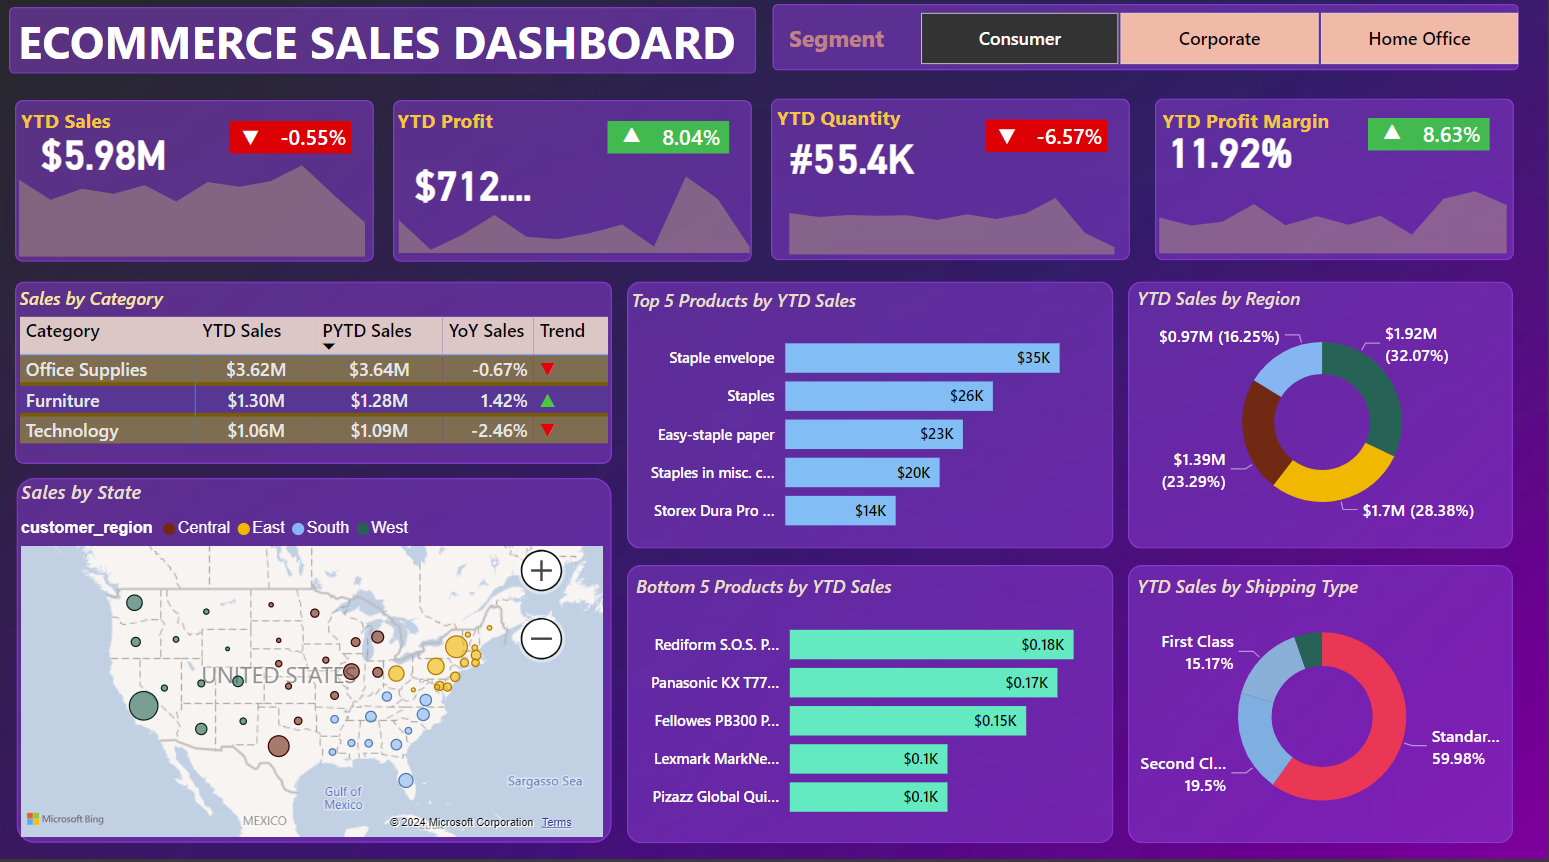

Layout of this report page (visuals, bound fields, positions):
{"tool":"powerbi","page":{"name":"Page 1","canvas":[1280,720],"ordinal":0},"visuals":[{"type":"shape","box":[15.1,17,614.2,54.8],"z":0},{"type":"textbox","box":[17,15.1,612.3,62.4],"z":1000},{"type":"shape","box":[20,93.8,295,133],"z":2000},{"type":"card","fields":{"Values":["ecommerce_data.YTD Sales"]},"box":[18.1,112.7,147.4,47.2],"z":3000},{"type":"shape","box":[195.8,110.8,100.2,26.5],"z":4000},{"type":"areaChart","fields":{"Category":["Calendar.Month"],"Y":["Sum(ecommerce_data.sales_per_order)"]},"box":[7.6,125.7,315,101.5],"z":5000},{"type":"card","fields":{"Values":["ecommerce_data.YoY Sales"]},"box":[214.7,110.8,100.2,30.2],"z":6000},{"type":"card","fields":{"Values":["ecommerce_data.Sales icon"]},"box":[195.8,110.8,34,24.6],"z":7000},{"type":"textbox","box":[20,93.8,128.5,43.5],"z":8000},{"type":"shape","box":[330.8,94.2,295,133],"z":9000},{"type":"card","fields":{"Values":["ecommerce_data.YTD Profit"]},"box":[321.2,138,147.4,47.2],"z":10000},{"type":"shape","box":[506.6,111.2,100.2,26.5],"z":11000},{"type":"areaChart","fields":{"Category":["Calendar.Month"],"Y":["Sum(ecommerce_data.profit_per_order)"]},"box":[319.5,137.8,319.5,86.3],"z":12000},{"type":"card","fields":{"Values":["ecommerce_data.YoY Profit"]},"box":[525.5,111.2,100.2,30.2],"z":13000},{"type":"card","fields":{"Values":["ecommerce_data.Profit icon"]},"box":[509.2,108.8,34,24.6],"z":14000},{"type":"textbox","box":[329.6,93.7,98.3,35.9],"z":15000},{"type":"shape","box":[641.4,92.2,295,133],"z":16000},{"type":"card","fields":{"Values":["ecommerce_data.YTD Concatenated Qty"]},"box":[633.8,115.7,147.4,47.2],"z":17000},{"type":"shape","box":[817.1,109.2,100.2,26.5],"z":18000},{"type":"areaChart","fields":{"Category":["Calendar.Month"],"Y":["Sum(ecommerce_data.order_quantity)"]},"box":[640.5,139.8,296.8,86.3],"z":19000},{"type":"card","fields":{"Values":["ecommerce_data.YoY Qty"]},"box":[836,109.2,100.2,30.2],"z":20000},{"type":"card","fields":{"Values":["ecommerce_data.Quantity icon"]},"box":[817.7,110,34.8,24.2],"z":21000},{"type":"textbox","box":[640.5,91.4,195.3,37.9],"z":22000},{"type":"shape","box":[956.2,92.1,295,133],"z":23000},{"type":"card","fields":{"Values":["ecommerce_data.YTD Profit Margin"]},"box":[944.6,110.5,147.4,47.2],"z":24000},{"type":"shape","box":[1131.9,109.1,100.2,26.5],"z":25000},{"type":"areaChart","fields":{"Category":["Calendar.Month"],"Y":["ecommerce_data.Profit Margin"]},"box":[944.9,142.3,316.5,83.3],"z":26000},{"type":"card","fields":{"Values":["ecommerce_data.YoY Profit Margin"]},"box":[1150.8,109.1,100.2,30.2],"z":27000},{"type":"card","fields":{"Values":["ecommerce_data.Profit margin icon"]},"box":[1134.5,106.6,34,24.6],"z":28000},{"type":"shape","box":[19.7,242.3,490.6,149.9],"z":30000},{"type":"pivotTable","title":"Sales by Category ","fields":{"Rows":["ecommerce_data.category_name"],"Values":["ecommerce_data.YTD Sales","ecommerce_data.PYTD Sales","ecommerce_data.YoY Sales","ecommerce_data.Sales icon"]},"box":[18.2,246.8,499.7,145.4],"z":31000},{"type":"textbox","box":[651.1,24.2,110.5,39.4],"z":31500},{"type":"shape","box":[21.2,404.3,489.1,299.8],"z":32000},{"type":"map","title":"Sales by State","fields":{"Y":["us_state_long_lat_codes.latitude"],"X":["us_state_long_lat_codes.longitude"],"Size":["ecommerce_data.YTD Sales"],"Series":["ecommerce_data.customer_region"]},"box":[19.7,404.3,487.6,299.8],"z":33000},{"type":"shape","box":[522.4,242.3,399.8,219.6],"z":34000},{"type":"shape","box":[522.4,475.5,399.8,228.6],"z":35000},{"type":"shape","box":[642,15.1,613.3,54.5],"z":35500},{"type":"shape","box":[934.3,475.5,316.5,228.6],"z":36000},{"type":"shape","box":[934.3,242.3,316.5,219.6],"z":37000},{"type":"barChart","title":"Top 5 Products by YTD Sales","fields":{"Category":["ecommerce_data.product_name"],"Y":["ecommerce_data.YTD Sales"]},"box":[521.6,247.6,395,213.5],"z":38000},{"type":"barChart","title":"Bottom 5 Products by YTD Sales","fields":{"Category":["ecommerce_data.product_name"],"Y":["ecommerce_data.YTD Sales"]},"box":[525.4,483,395.2,213.5],"z":39000},{"type":"donutChart","title":"YTD Sales by Region","fields":{"Category":["ecommerce_data.customer_region"],"Y":["ecommerce_data.YTD Sales"]},"box":[937.3,246.8,313.4,202.9],"z":40000},{"type":"donutChart","title":"YTD Sales by Shipping Type","fields":{"Y":["ecommerce_data.YTD Sales"],"Category":["ecommerce_data.shipping_type"]},"box":[937.3,483,313.4,213.5],"z":41000},{"type":"slicer","fields":{"Values":["ecommerce_data.customer_segment"]},"box":[738.9,15.1,540.6,56],"z":43000},{"type":"textbox","box":[958.5,93.9,177.2,34.8],"z":44000}]}

Visuals, with their boxes in screenshot pixels (x1, y1, x2, y2), scaled from the page's 1280x720 canvas onto the 1549x862 screenshot:
shape: <region>18, 20, 762, 86</region>
textbox: <region>21, 18, 762, 93</region>
shape: <region>24, 112, 381, 272</region>
card - ecommerce_data.YTD Sales: <region>22, 135, 200, 191</region>
shape: <region>237, 133, 358, 164</region>
areaChart - Calendar.Month x Sum(ecommerce_data.sales_per_order): <region>9, 150, 390, 272</region>
card - ecommerce_data.YoY Sales: <region>260, 133, 381, 169</region>
card - ecommerce_data.Sales icon: <region>237, 133, 278, 162</region>
textbox: <region>24, 112, 180, 164</region>
shape: <region>400, 113, 757, 272</region>
card - ecommerce_data.YTD Profit: <region>389, 165, 567, 222</region>
shape: <region>613, 133, 734, 165</region>
areaChart - Calendar.Month x Sum(ecommerce_data.profit_per_order): <region>387, 165, 773, 268</region>
card - ecommerce_data.YoY Profit: <region>636, 133, 757, 169</region>
card - ecommerce_data.Profit icon: <region>616, 130, 657, 160</region>
textbox: <region>399, 112, 518, 155</region>
shape: <region>776, 110, 1133, 270</region>
card - ecommerce_data.YTD Concatenated Qty: <region>767, 139, 945, 195</region>
shape: <region>989, 131, 1110, 162</region>
areaChart - Calendar.Month x Sum(ecommerce_data.order_quantity): <region>775, 167, 1134, 271</region>
card - ecommerce_data.YoY Qty: <region>1012, 131, 1133, 167</region>
card - ecommerce_data.Quantity icon: <region>990, 132, 1032, 161</region>
textbox: <region>775, 109, 1011, 155</region>
shape: <region>1157, 110, 1514, 269</region>
card - ecommerce_data.YTD Profit Margin: <region>1143, 132, 1321, 189</region>
shape: <region>1370, 131, 1491, 162</region>
areaChart - Calendar.Month x ecommerce_data.Profit Margin: <region>1143, 170, 1526, 270</region>
card - ecommerce_data.YoY Profit Margin: <region>1393, 131, 1514, 167</region>
card - ecommerce_data.Profit margin icon: <region>1373, 128, 1414, 157</region>
shape: <region>24, 290, 618, 470</region>
"Sales by Category " pivotTable: <region>22, 295, 627, 470</region>
textbox: <region>788, 29, 922, 76</region>
shape: <region>26, 484, 618, 843</region>
"Sales by State" map: <region>24, 484, 614, 843</region>
shape: <region>632, 290, 1116, 553</region>
shape: <region>632, 569, 1116, 843</region>
shape: <region>777, 18, 1519, 83</region>
shape: <region>1131, 569, 1514, 843</region>
shape: <region>1131, 290, 1514, 553</region>
"Top 5 Products by YTD Sales" barChart: <region>631, 296, 1109, 552</region>
"Bottom 5 Products by YTD Sales" barChart: <region>636, 578, 1114, 834</region>
"YTD Sales by Region" donutChart: <region>1134, 295, 1514, 538</region>
"YTD Sales by Shipping Type" donutChart: <region>1134, 578, 1514, 834</region>
slicer - ecommerce_data.customer_segment: <region>894, 18, 1548, 85</region>
textbox: <region>1160, 112, 1374, 154</region>
